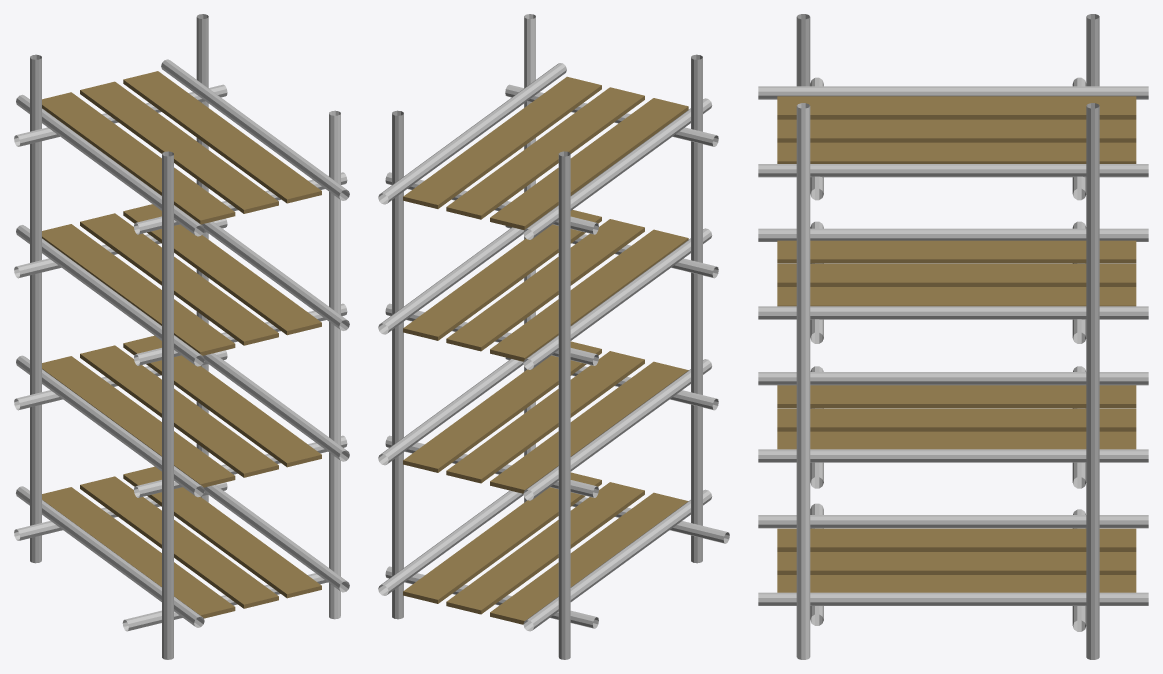
The model's file is scaffolding1.fbx.
3 views of the same model, side by side, from view 1: azimuth 30°, elevation 25°; view 2: azimuth 150°, elevation 25°; view 3: azimuth 270°, elevation 25° (orthographic). The views are drawn at different scales.
Visible parts, largest first — view 1: pCube54, pCube58, pCylinder48, pCube57, pCube60, pCube53, pCube31, pCube55, pCube56, pCube52, pCube59, pCylinder87 (+20 smaller); view 2: pCylinder87, pCube54, pCube58, pCube57, pCube60, pCube53, pCube31, pCube55, pCube56, pCube52, pCube59, pCube61 (+20 smaller); view 3: pCylinder36, pCube31, pCube58, pCube55, pCube57, pCube61, pCube50, pCylinder47, pCube60, pCube53, pCube54, pCube59 (+12 smaller).
Part boxes in pixels (<box>): pCube54: <box>123,71,321,203</box>; pCube58: <box>80,81,278,213</box>; pCylinder48: <box>162,151,173,659</box>; pCube57: <box>80,345,278,477</box>; pCube60: <box>80,213,278,345</box>; pCube53: <box>80,476,278,608</box>; pCube31: <box>42,92,235,224</box>; pCube55: <box>42,224,235,355</box>; pCube56: <box>123,466,321,598</box>; pCube52: <box>123,335,321,467</box>; pCube59: <box>123,204,321,335</box>; pCylinder87: <box>30,54,41,563</box>; pCylinder87: <box>558,151,570,659</box>; pCube54: <box>403,76,601,208</box>; pCube58: <box>446,87,644,219</box>; pCube57: <box>446,351,644,483</box>; pCube60: <box>446,219,644,351</box>; pCube53: <box>446,482,644,614</box>; pCube31: <box>490,98,688,229</box>; pCube55: <box>490,229,688,361</box>; pCube56: <box>403,472,601,603</box>; pCube52: <box>403,341,601,472</box>; pCube59: <box>403,209,601,340</box>; pCube61: <box>490,361,688,493</box>; pCylinder36: <box>796,103,810,659</box>; pCube31: <box>777,96,1136,119</box>; pCube58: <box>777,119,1136,142</box>; pCube55: <box>777,240,1136,263</box>; pCube57: <box>777,408,1136,431</box>; pCube61: <box>777,385,1136,408</box>; pCube50: <box>777,528,1136,551</box>; pCylinder47: <box>1086,103,1099,659</box>; pCube60: <box>777,264,1136,286</box>; pCube53: <box>777,552,1136,574</box>; pCube54: <box>777,142,1136,163</box>; pCube59: <box>777,287,1136,306</box>.
Size of the model in its own units: 10.43 by 22.96 by 14.74.
